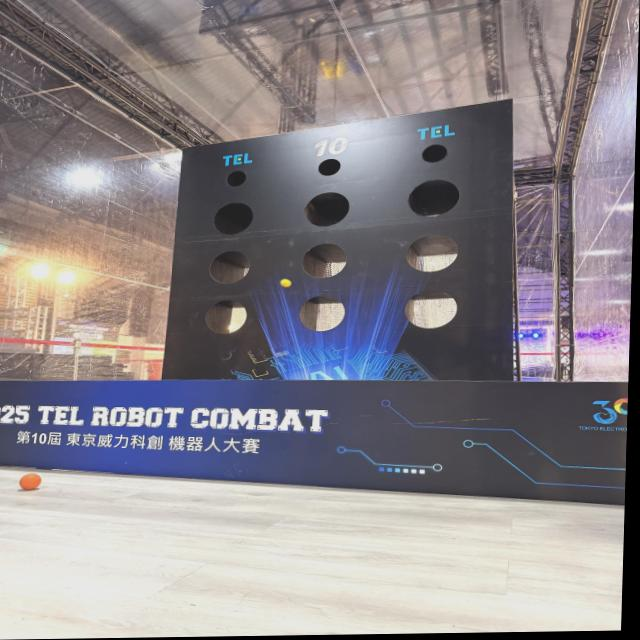hole: (404, 290, 457, 328), (406, 234, 458, 272), (408, 179, 459, 217), (298, 295, 347, 332), (304, 192, 349, 226), (302, 243, 347, 277), (208, 250, 250, 286), (205, 299, 247, 334), (214, 202, 254, 234), (423, 144, 448, 163), (318, 159, 341, 175), (226, 171, 246, 187)
